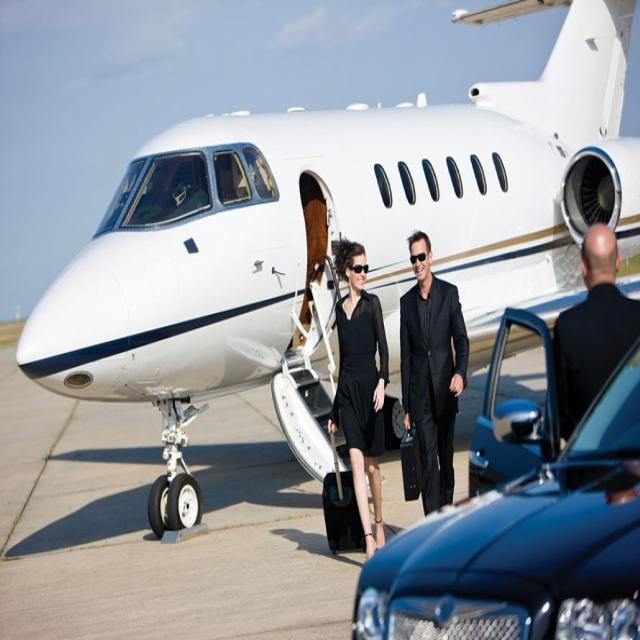jet: (7, 0, 640, 569)
